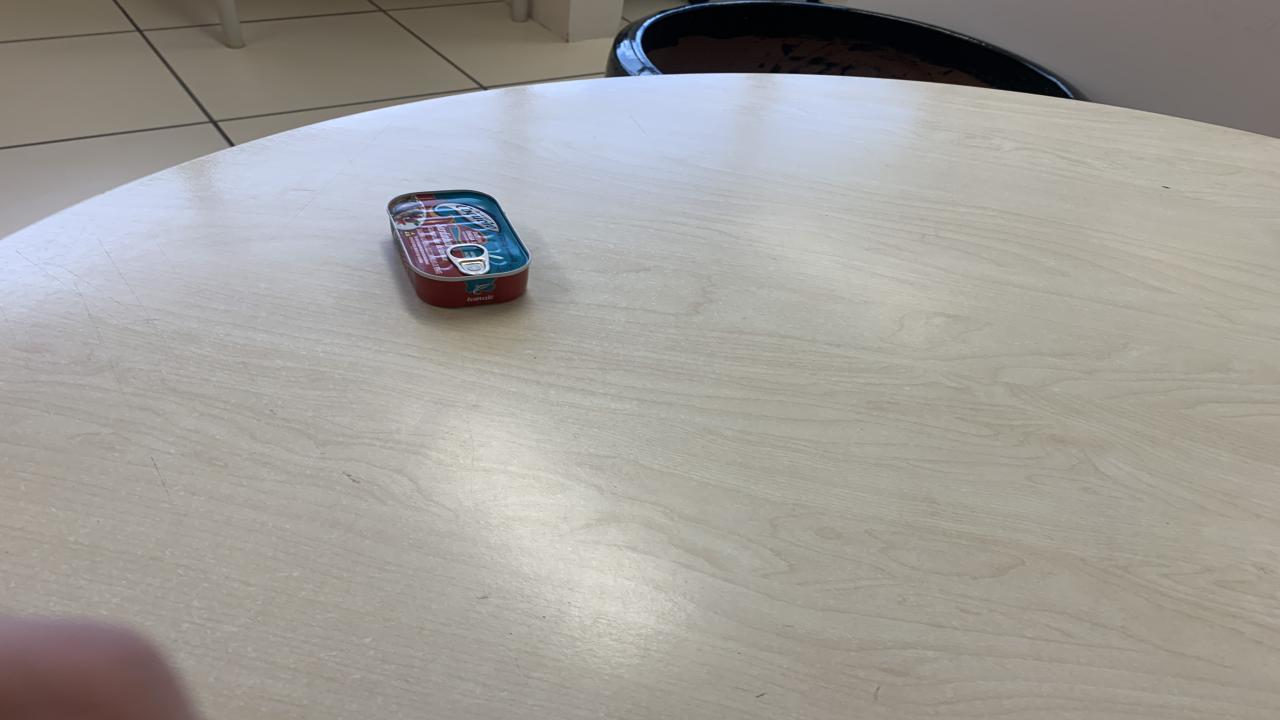Tuna_Can-Pantry_Items: (385, 190, 530, 312)
